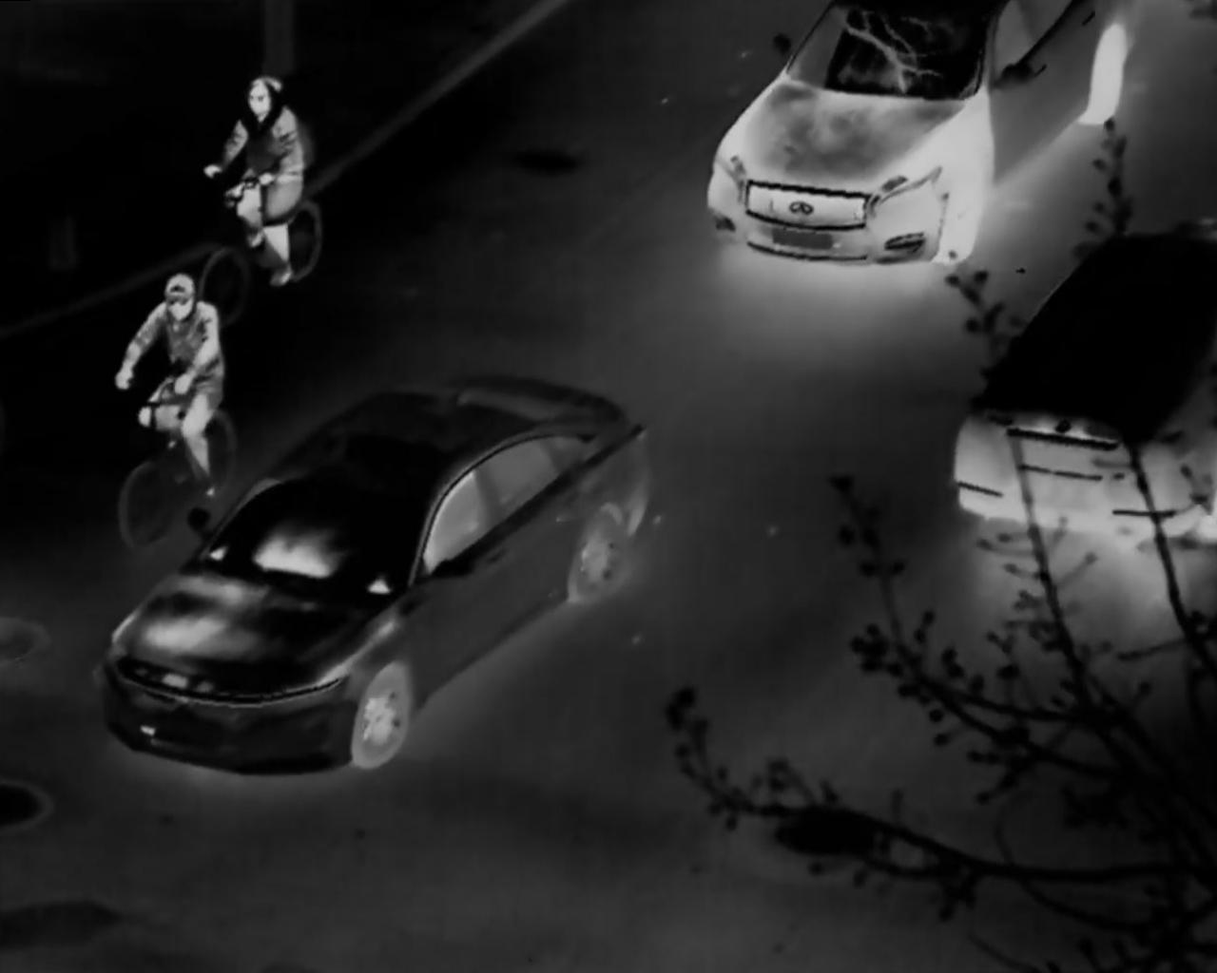person: (113, 273, 224, 501), (203, 74, 307, 288)
